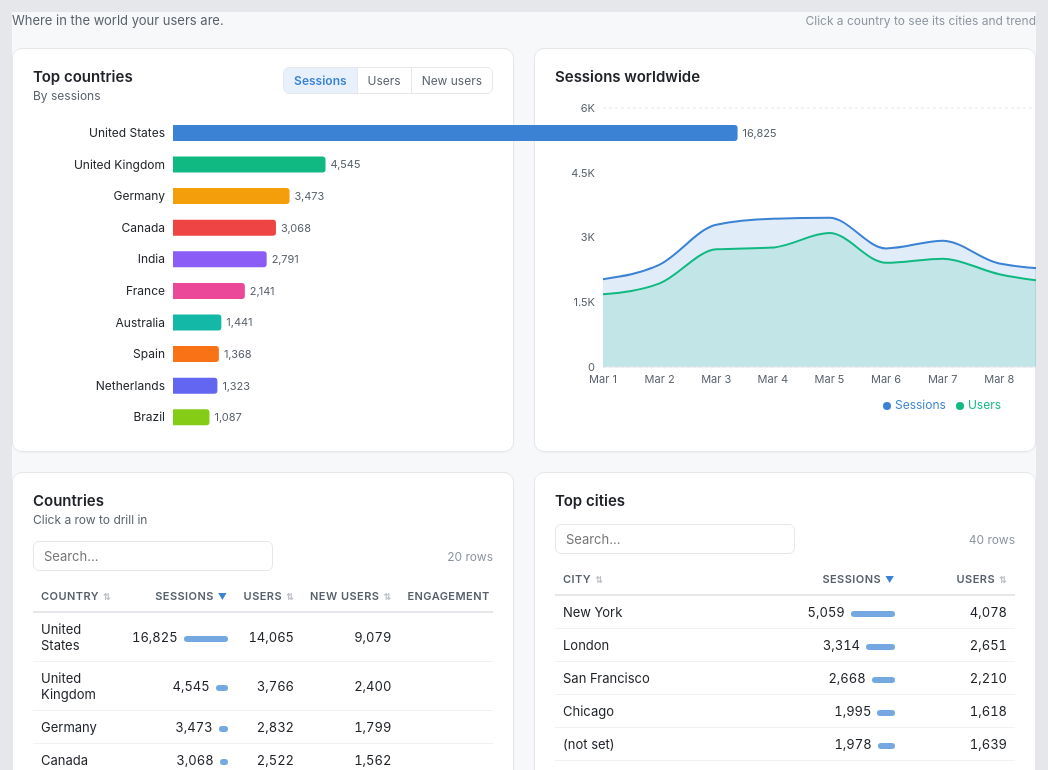
GeographyPage › re-ranks countries by a different metric
Click the radio button labelled "New users" at coordinates (452, 80), box [412,68,492,93]
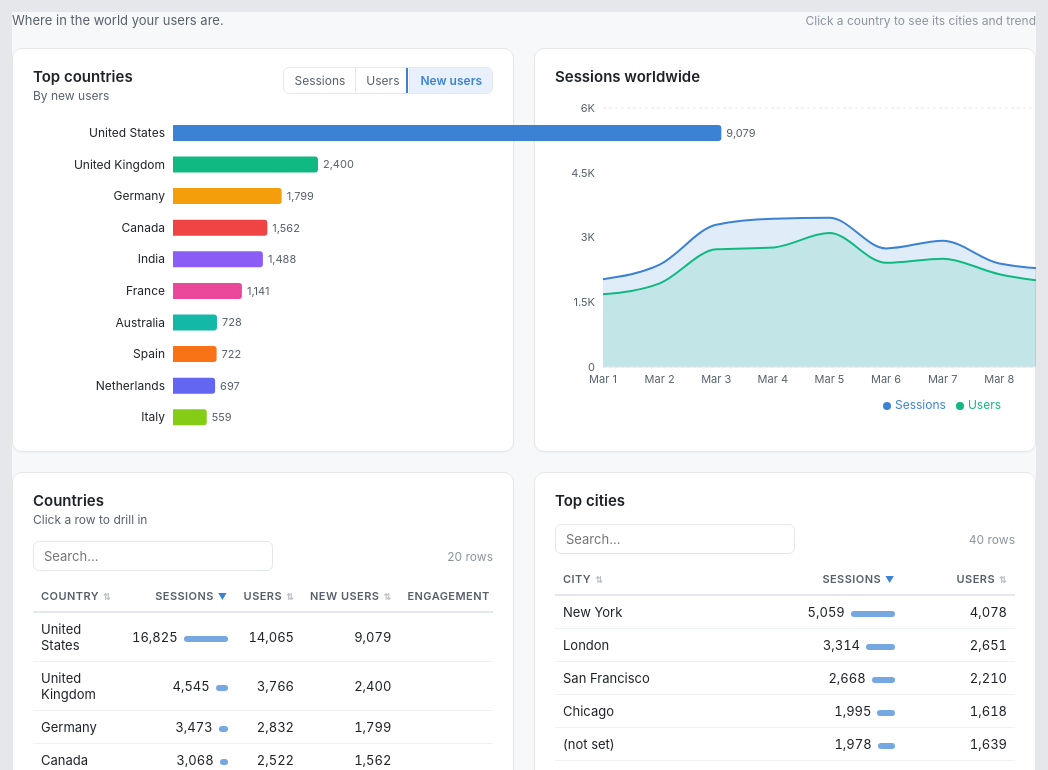
expect the element "Top countries" shows "By new users": met, box [33,88,109,103]
